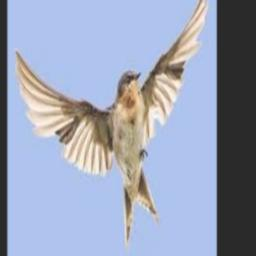Swallow: (14, 0, 208, 254)
